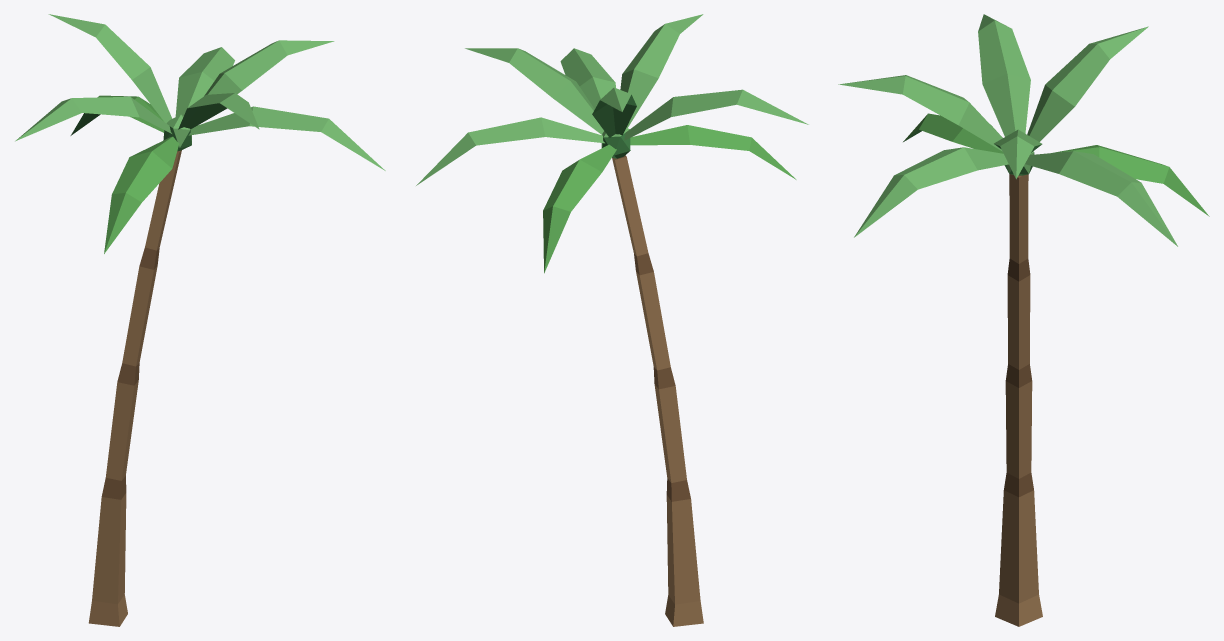
File: palm_a_lod1.glb
The picture shows the model from 3 angles, left to right: view 1: azimuth 30°, elevation 25°; view 2: azimuth 150°, elevation 25°; view 3: azimuth 270°, elevation 25°; orthographic projection. The views are drawn at different scales.
Visible parts, largest first — view 1: palm_a_lod1; view 2: palm_a_lod1; view 3: palm_a_lod1.
Part boxes in pixels (x1,y1,x2,y2): palm_a_lod1: (15,14,385,626); palm_a_lod1: (416,14,808,626); palm_a_lod1: (838,14,1209,626).
Bounding box in the file's own units: 6.62 × 10.53 × 6.01.
